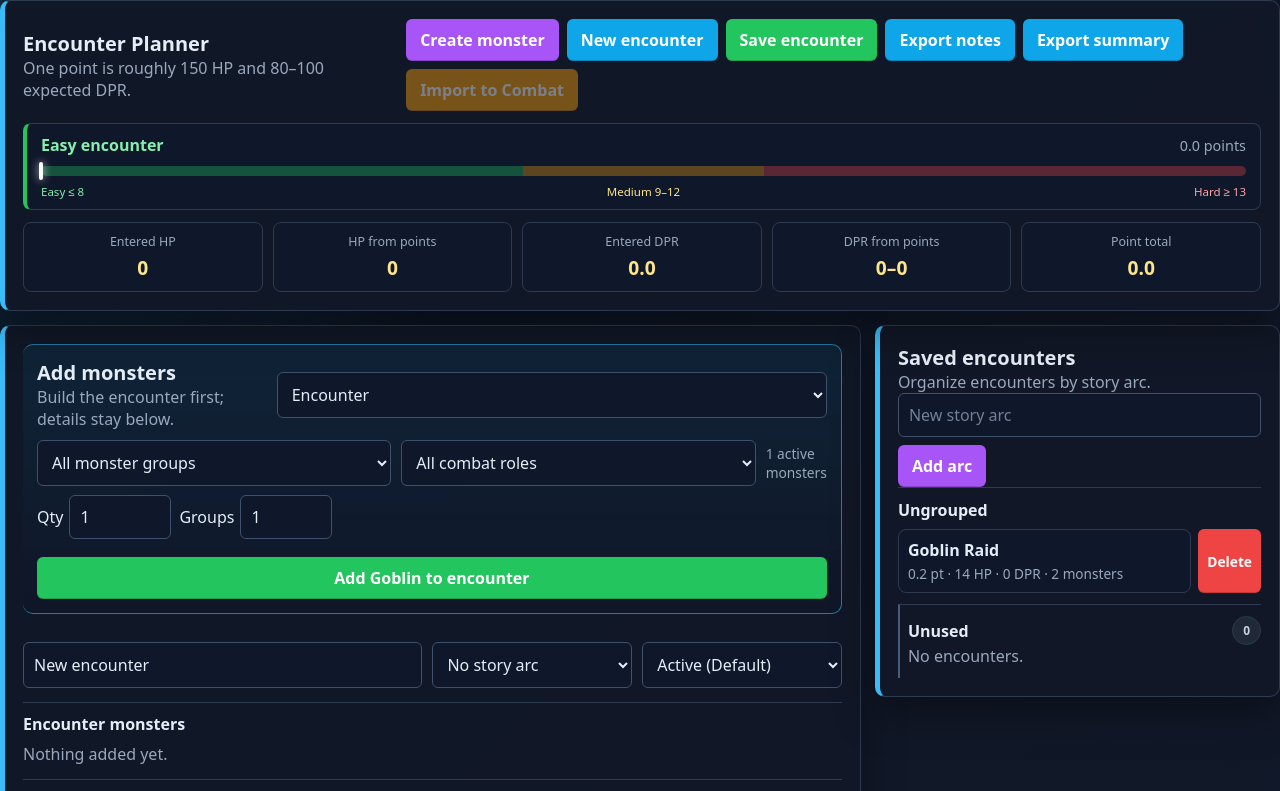
Test: encounter planner › provides export notes (Notion-ready) and export summary buttons in Encounter Planner
Note: Select the saved encounter to view its monster list
Click the button "Goblin Raid 0.2 pt · 14 HP · 0 DPR · 2 monsters".
click(1045, 561)  # box [898,529,1191,593]
(page scrolled)
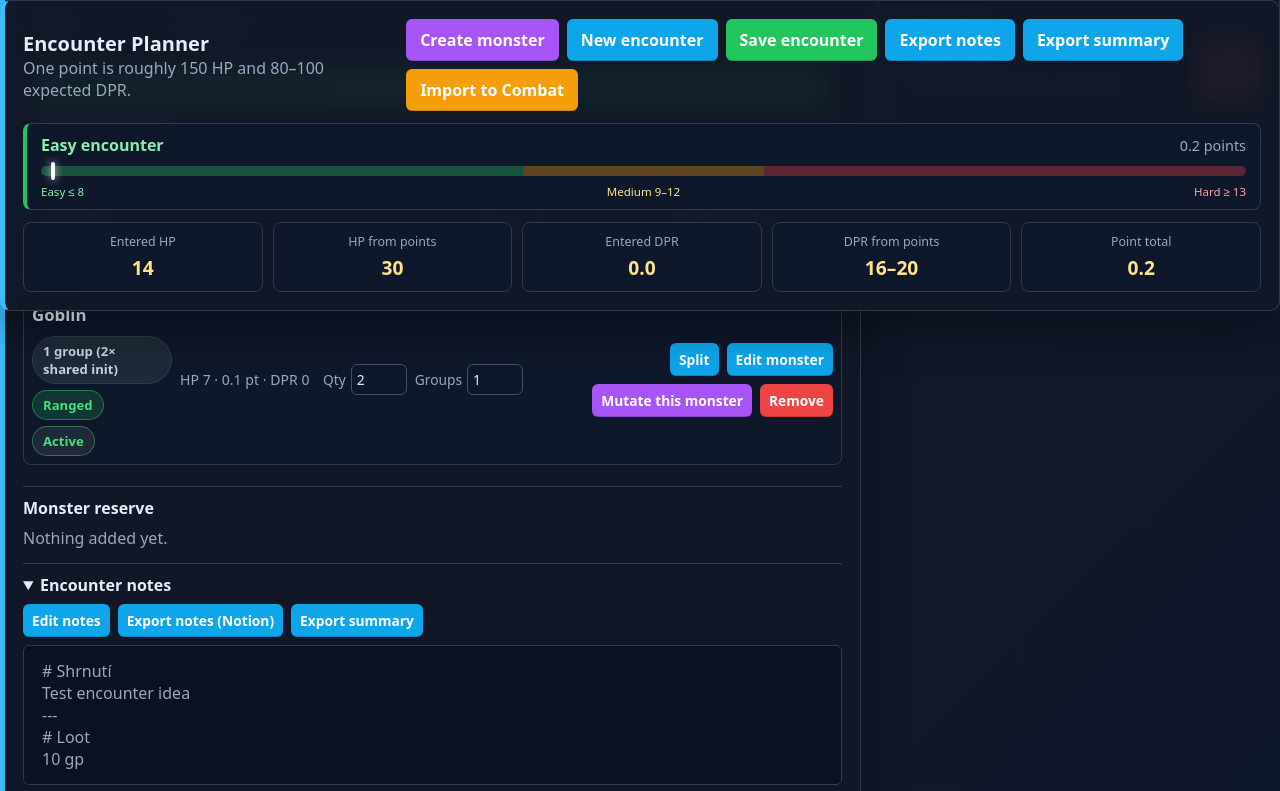
Expected: the button "Mutate this monster" is shown, [592,384,752,416]
